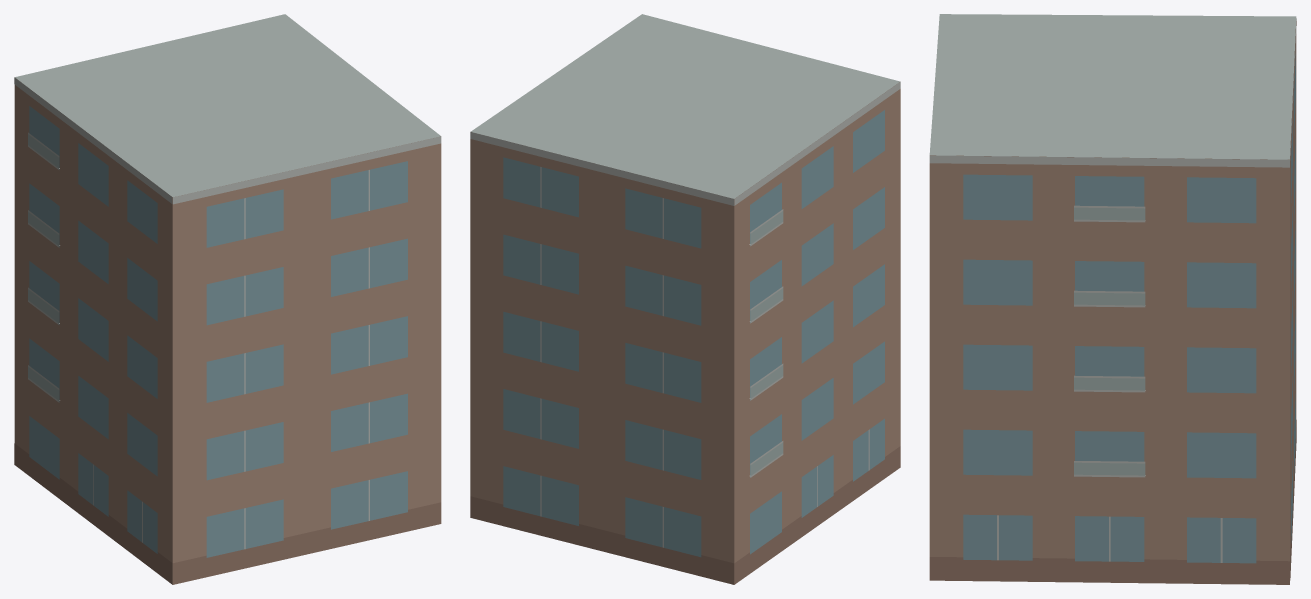
The model's file is survey-upis-33003482.glb.
The picture shows the model from 3 angles, left to right: view 1: azimuth 30°, elevation 25°; view 2: azimuth 150°, elevation 25°; view 3: azimuth 270°, elevation 25°; orthographic projection. The views are drawn at different scales.
Parts seen in each view (by area): view 1: survey-upis-33003482.tmp; view 2: survey-upis-33003482.tmp; view 3: survey-upis-33003482.tmp.
Part boxes in pixels (<box>): survey-upis-33003482.tmp: <box>14,14,441,584</box>; survey-upis-33003482.tmp: <box>470,14,900,584</box>; survey-upis-33003482.tmp: <box>929,14,1296,584</box>.
Bounding box in the file's own units: 9.71 × 13.2 × 10.33.
